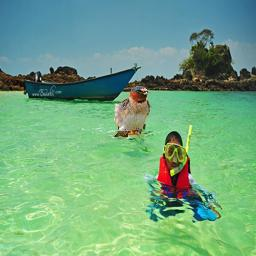Swallow: (113, 86, 151, 138)
